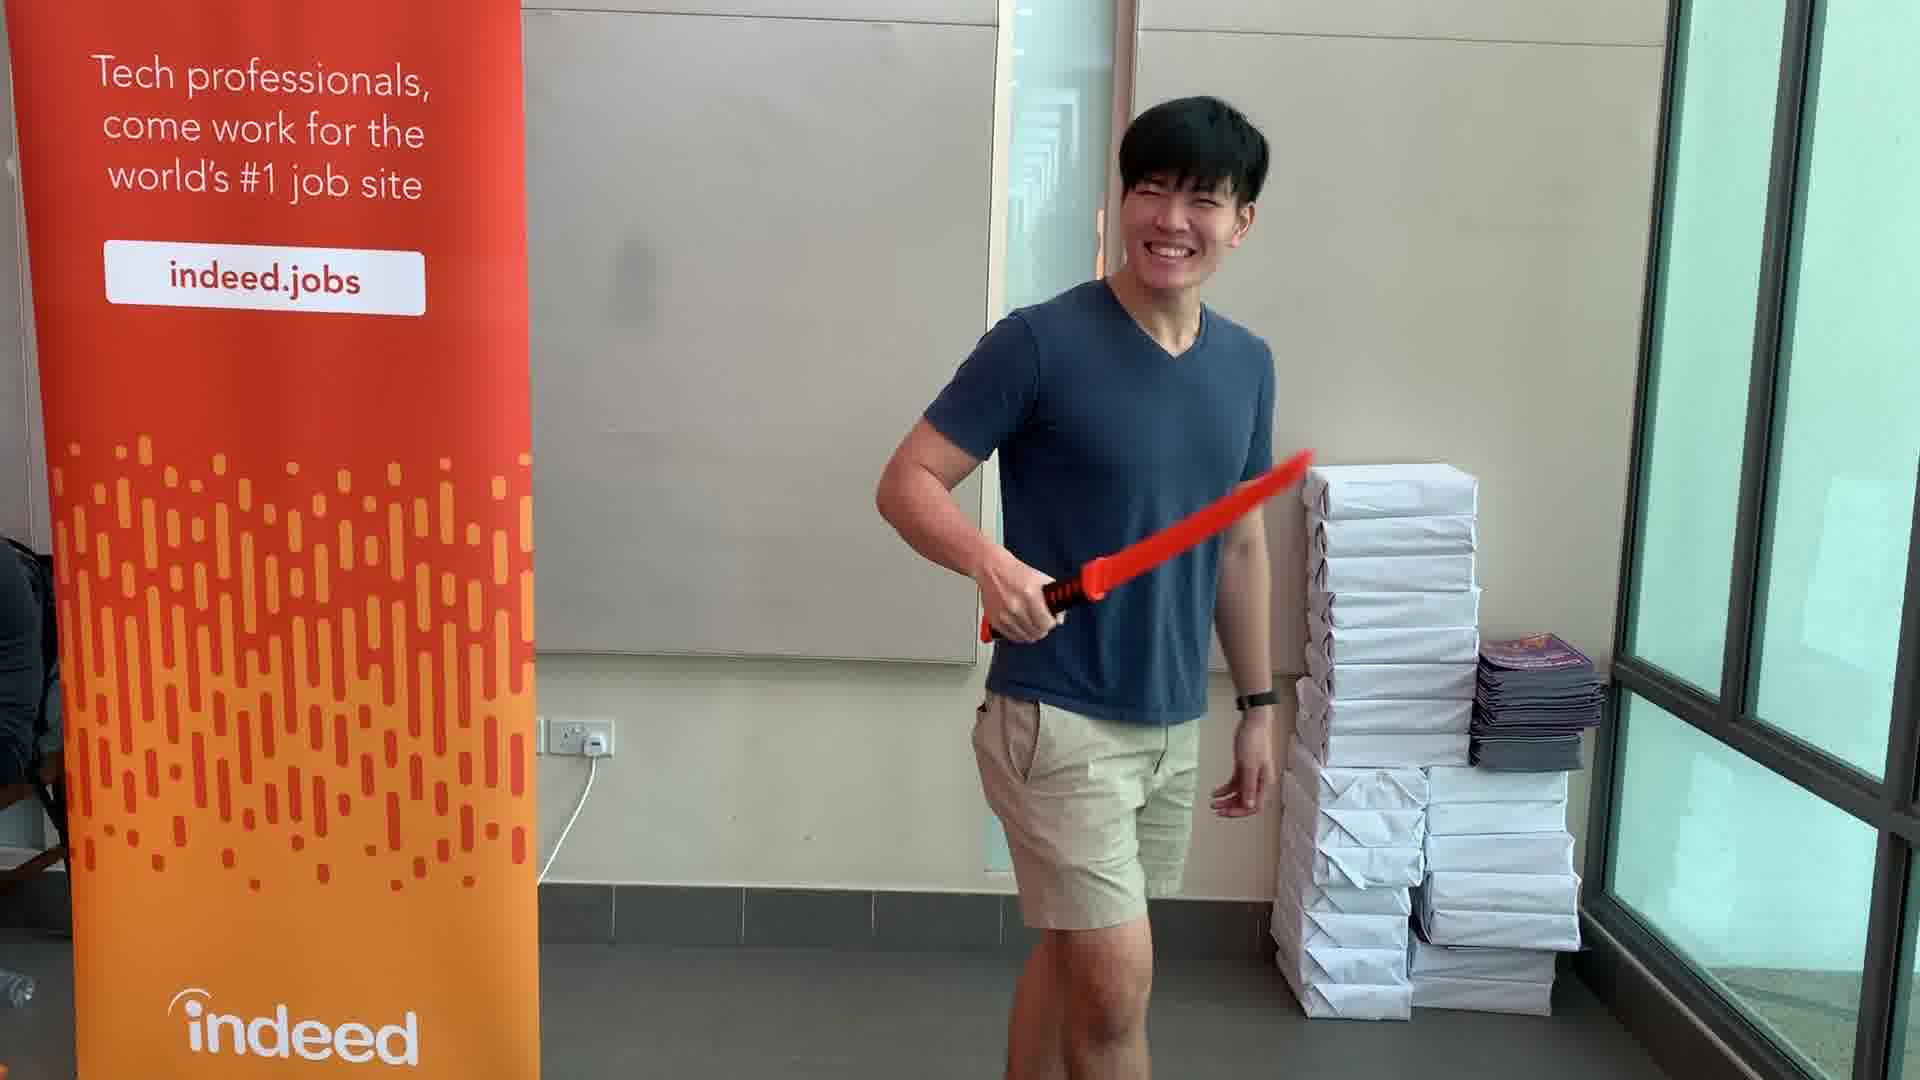knife: (968, 440, 1324, 655)
